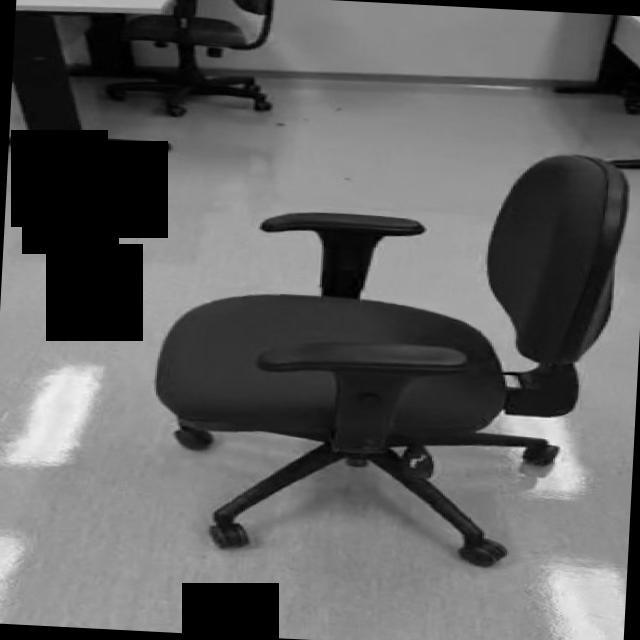chair: (151, 138, 640, 576)
